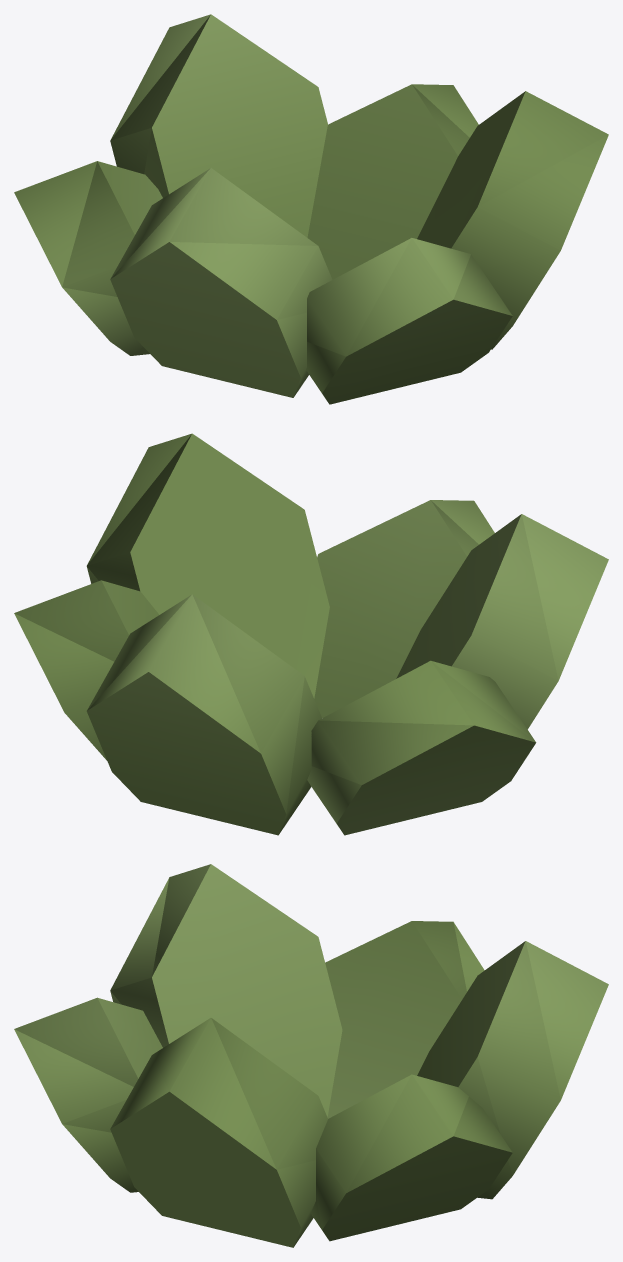
The model's file is K_Grass.glb.
The picture shows the model from 3 angles, top to bottom: view 1: azimuth 30°, elevation 25°; view 2: azimuth 150°, elevation 25°; view 3: azimuth 270°, elevation 25°; orthographic projection. The views are drawn at different scales.
Visible parts, largest first — view 1: K_Grass; view 2: K_Grass; view 3: K_Grass.
Part boxes in pixels (x1,y1,x2,y2): K_Grass: [14, 14, 608, 404]; K_Grass: [14, 433, 608, 835]; K_Grass: [14, 864, 608, 1247].
Bounding box in the file's own units: 1.45 × 0.6755 × 1.61.
